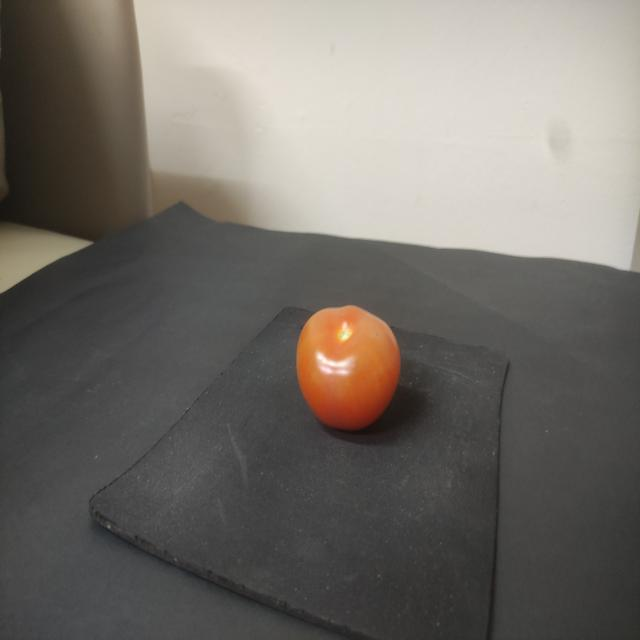sari: (278, 284, 421, 437)
